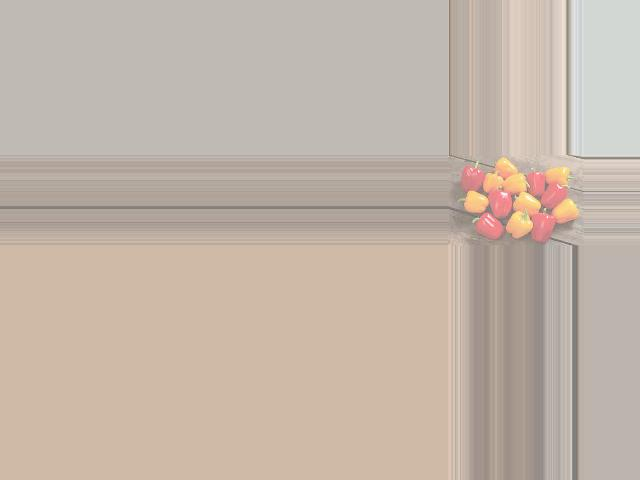bell_pepper: (544, 198, 579, 228)
